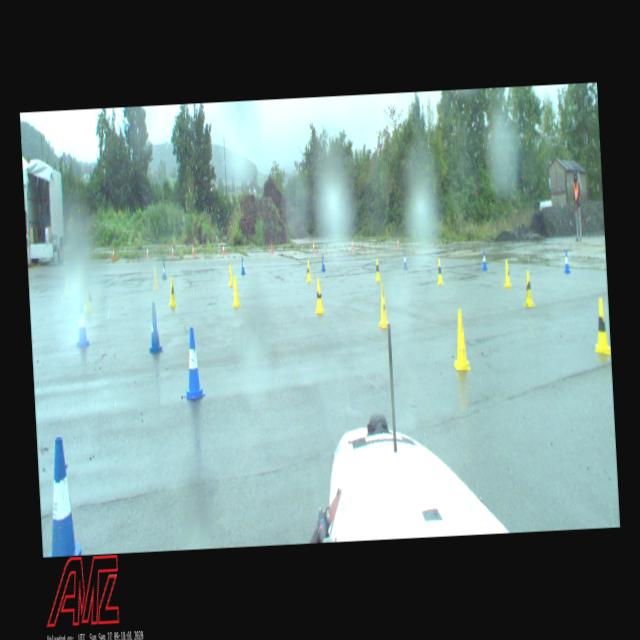blue_cone: (40, 437, 82, 558), (180, 326, 207, 401), (146, 302, 164, 354), (74, 305, 90, 347), (564, 250, 570, 273), (481, 250, 487, 270), (402, 252, 408, 270), (240, 256, 246, 274), (320, 254, 326, 272), (162, 262, 166, 280)
orange_cone: (146, 246, 150, 259), (111, 248, 115, 259), (222, 244, 225, 256), (171, 246, 174, 257), (312, 241, 315, 252), (352, 238, 354, 250), (192, 245, 194, 256), (271, 244, 273, 254), (397, 239, 399, 248)
yellow_cone: (450, 306, 470, 371), (592, 298, 610, 354), (376, 284, 391, 328), (522, 270, 535, 306), (313, 278, 325, 314), (231, 276, 241, 308), (167, 276, 177, 307), (502, 260, 512, 286), (84, 286, 92, 312), (436, 258, 443, 284), (152, 266, 159, 292), (374, 258, 381, 282), (228, 264, 235, 286), (306, 260, 312, 282), (64, 278, 69, 296)
